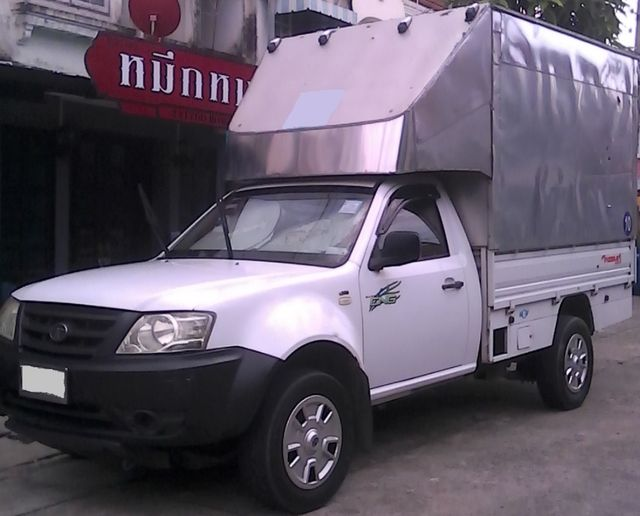pickup: (11, 172, 635, 500)
